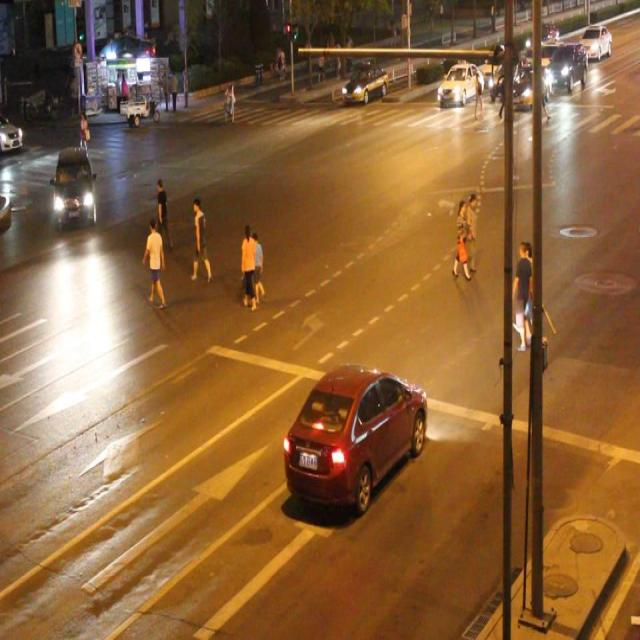car: (281, 364, 426, 515), (51, 147, 99, 225)
